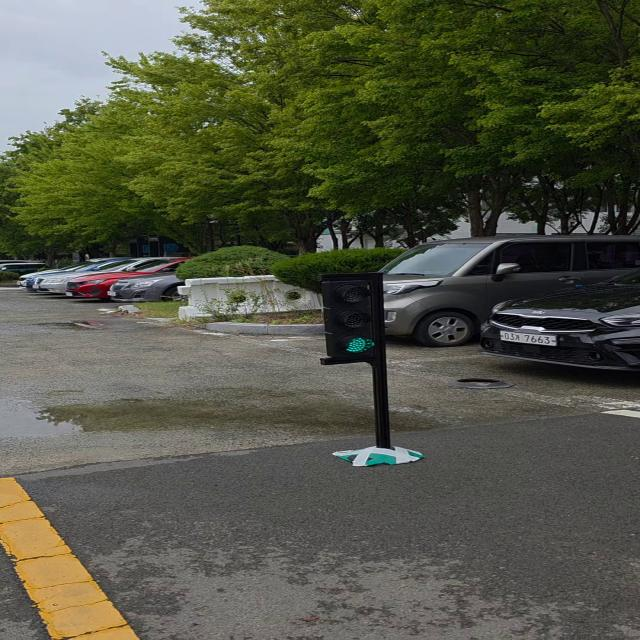green: (323, 276, 388, 366)
